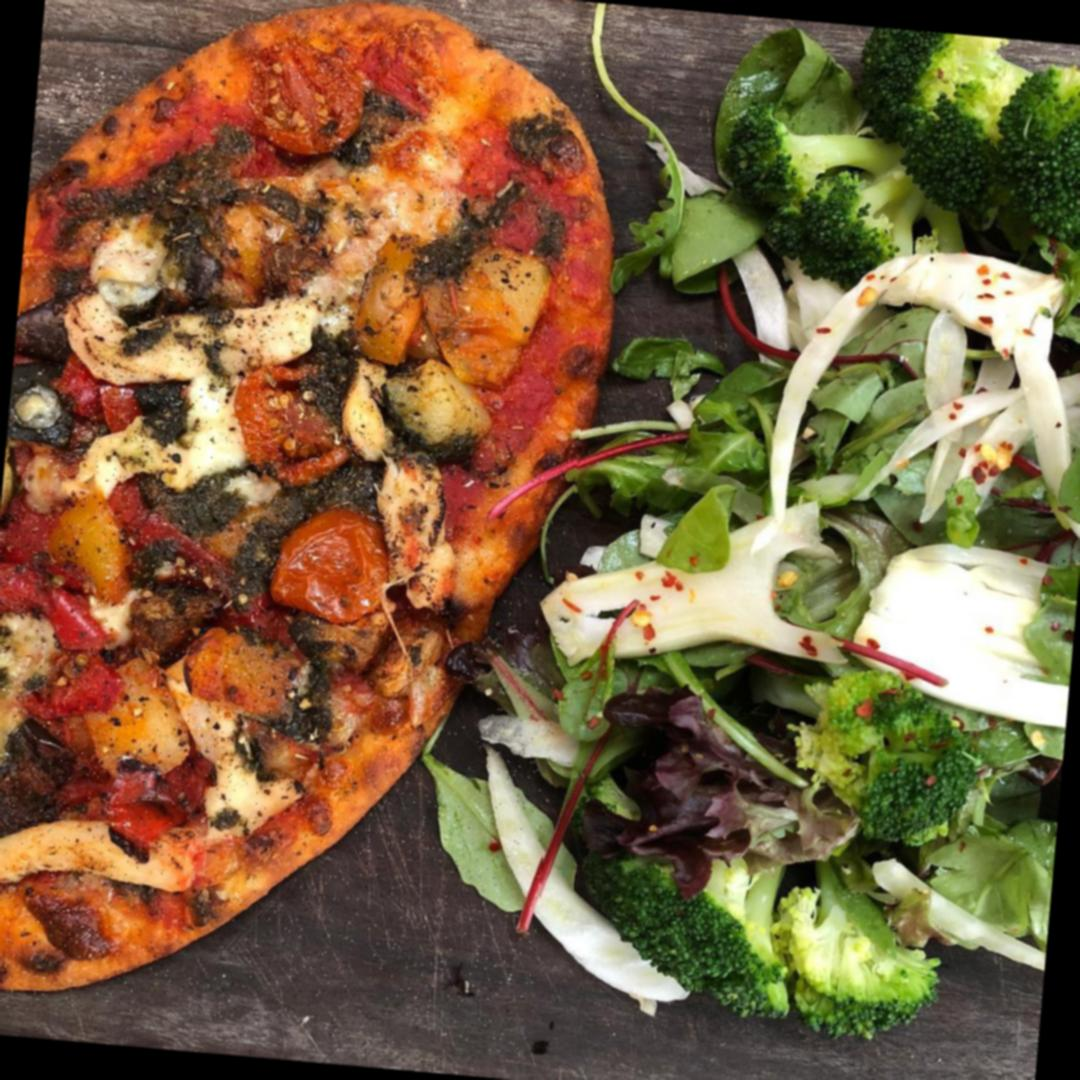Pizza: (0, 0, 616, 1056)
Tomatoes: (235, 9, 444, 168), (229, 358, 380, 491), (15, 574, 140, 733), (268, 508, 405, 636), (454, 155, 598, 273), (97, 473, 236, 591), (64, 753, 209, 861), (51, 358, 170, 441)
